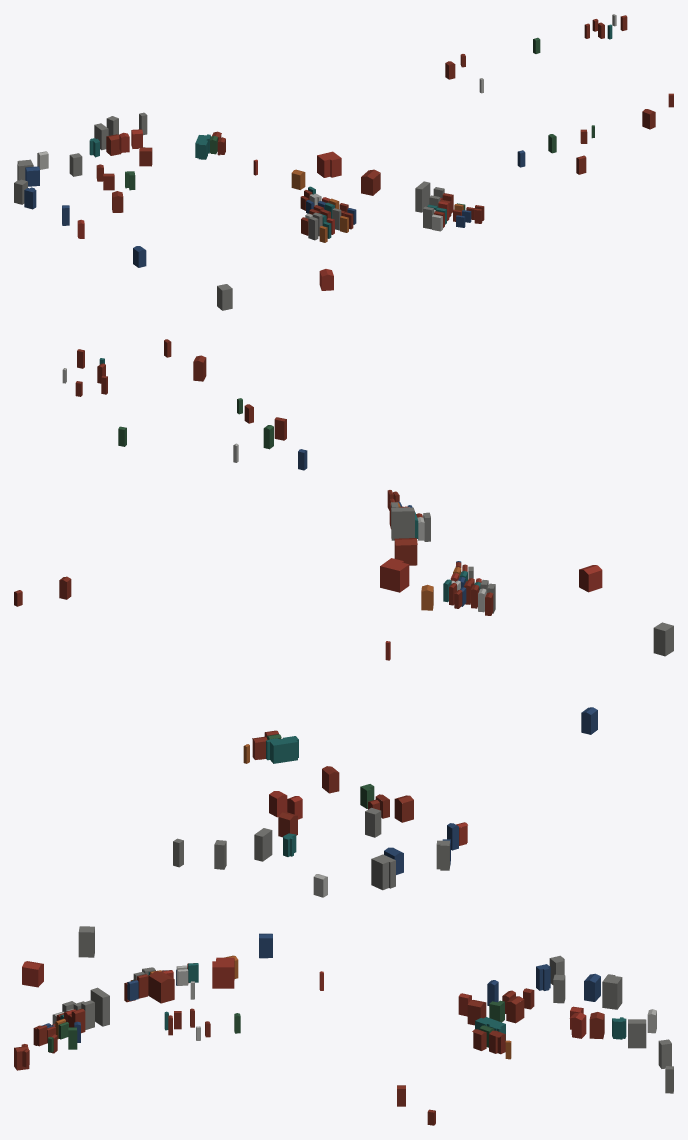
File: near-16-54716-29736.ede80e60.glb
3 views of the same model, one above another, from view 1: azimuth 30°, elevation 25°; view 2: azimuth 150°, elevation 25°; view 3: azimuth 270°, elevation 25° (orthographic). The views are drawn at different scales.
Size of the model in its own units: 580 by 249 by 587.
